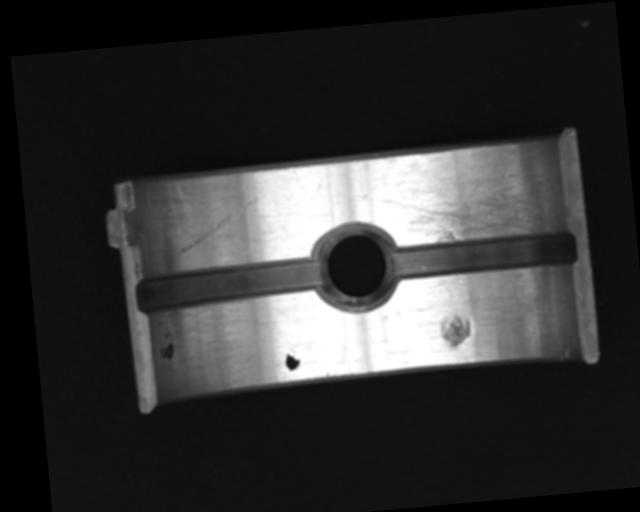blot: (156, 327, 176, 363), (283, 346, 302, 372)
bruise: (438, 311, 474, 349)
gap: (133, 254, 329, 316), (388, 228, 577, 283)
hole: (312, 220, 401, 313)
nick: (170, 195, 264, 257)
scratch: (379, 157, 558, 248)
